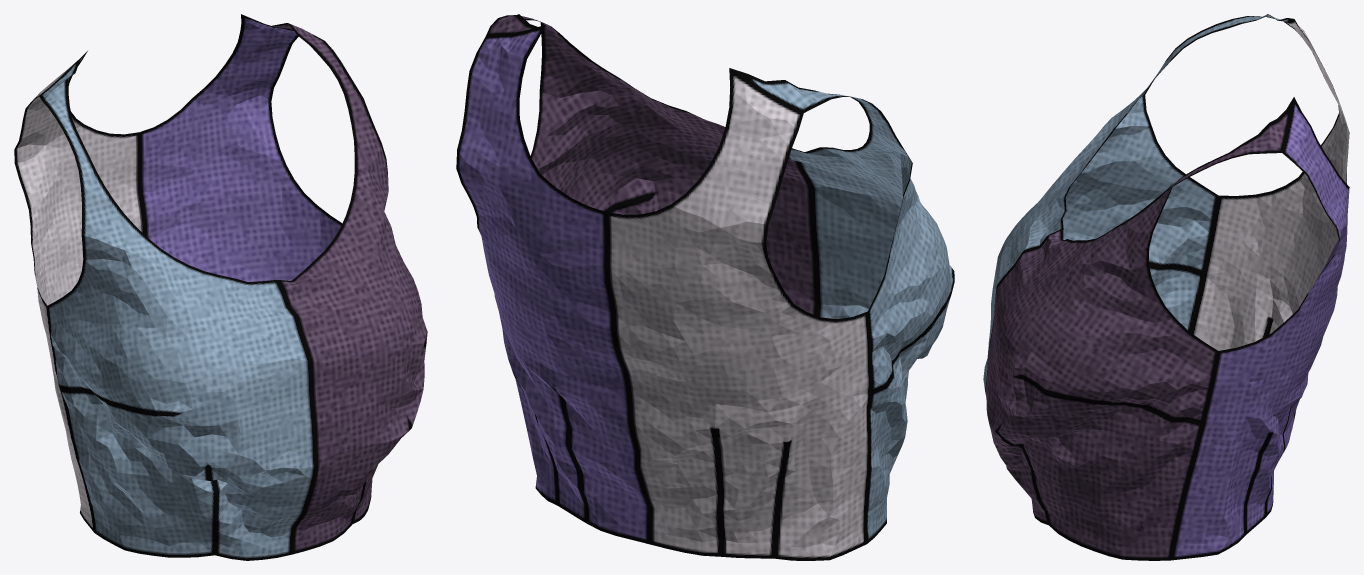
File: tank_tight_sim.obj
3 renders of one model, left to right at view 1: azimuth 30°, elevation 25°; view 2: azimuth 150°, elevation 25°; view 3: azimuth 270°, elevation 25°, orthographic. The views are drawn at different scales.
Size of the model in its own units: 22.03 by 28.45 by 21.37.
1 material, 1 textured.
